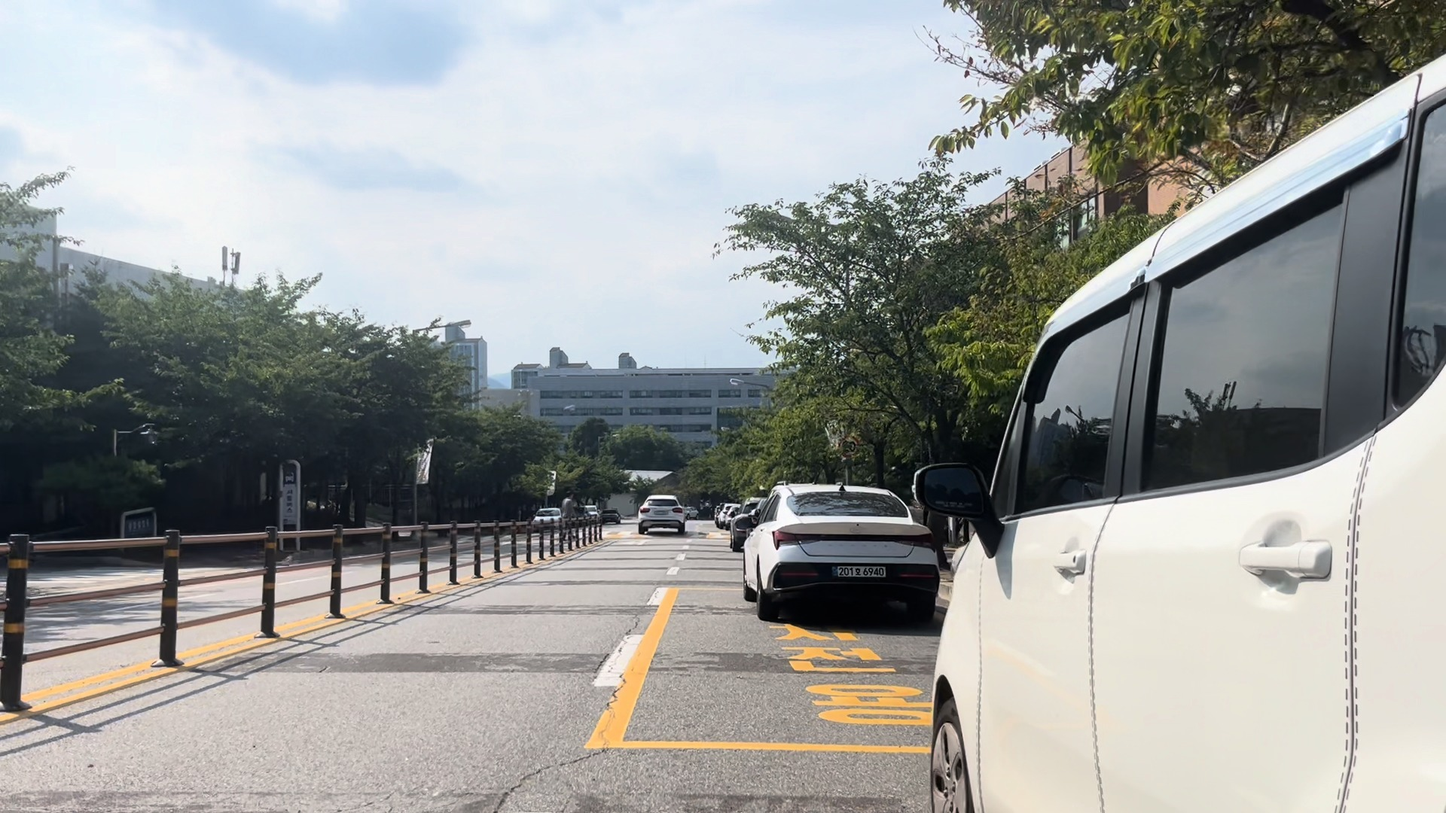door_handle: (1239, 540, 1332, 578), (1055, 551, 1085, 574)
side_mirror: (914, 464, 1002, 557)
tail_light: (773, 531, 822, 549), (639, 507, 649, 513), (673, 507, 682, 513)
